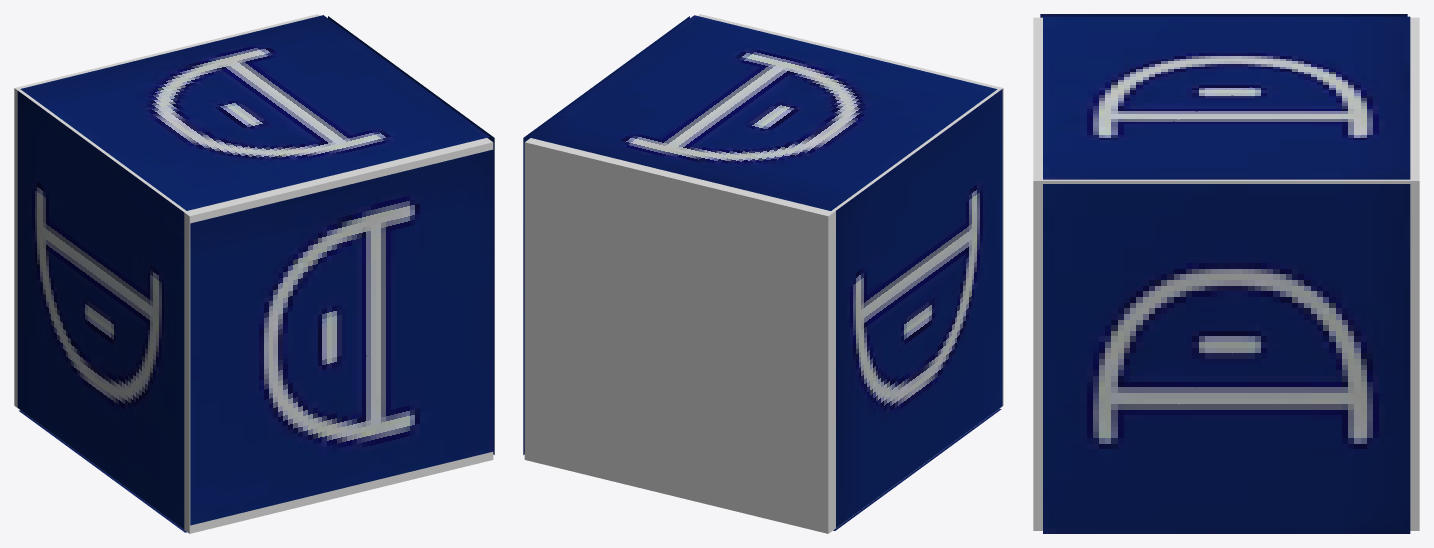
The picture shows the model from 3 angles, left to right: view 1: azimuth 30°, elevation 25°; view 2: azimuth 150°, elevation 25°; view 3: azimuth 270°, elevation 25°; orthographic projection. The views are drawn at different scales.
Visible parts, largest first — view 1: R2.004, R2.003, R2.001, Link32, R2; view 2: Link32, R2.003, R2.001, R2; view 3: R2, R2.001, Link32, R2.003.
Part boxes in pixels (x1,y1,x2,y2): R2.004: [190, 149, 493, 525]; R2.003: [17, 91, 184, 529]; R2.001: [20, 15, 489, 210]; Link32: [14, 14, 493, 533]; R2: [328, 16, 494, 454]; Link32: [524, 14, 1003, 533]; R2.003: [836, 89, 1002, 527]; R2.001: [528, 15, 997, 210]; R2: [523, 16, 689, 454]; R2: [1043, 184, 1410, 533]; R2.001: [1043, 16, 1410, 179]; Link32: [1033, 17, 1419, 530]; R2.003: [1040, 14, 1407, 17].
Bounding box in the file's own units: 0.3592 × 0.3508 × 0.3533.
Materials: 1 (1 with a texture image).
